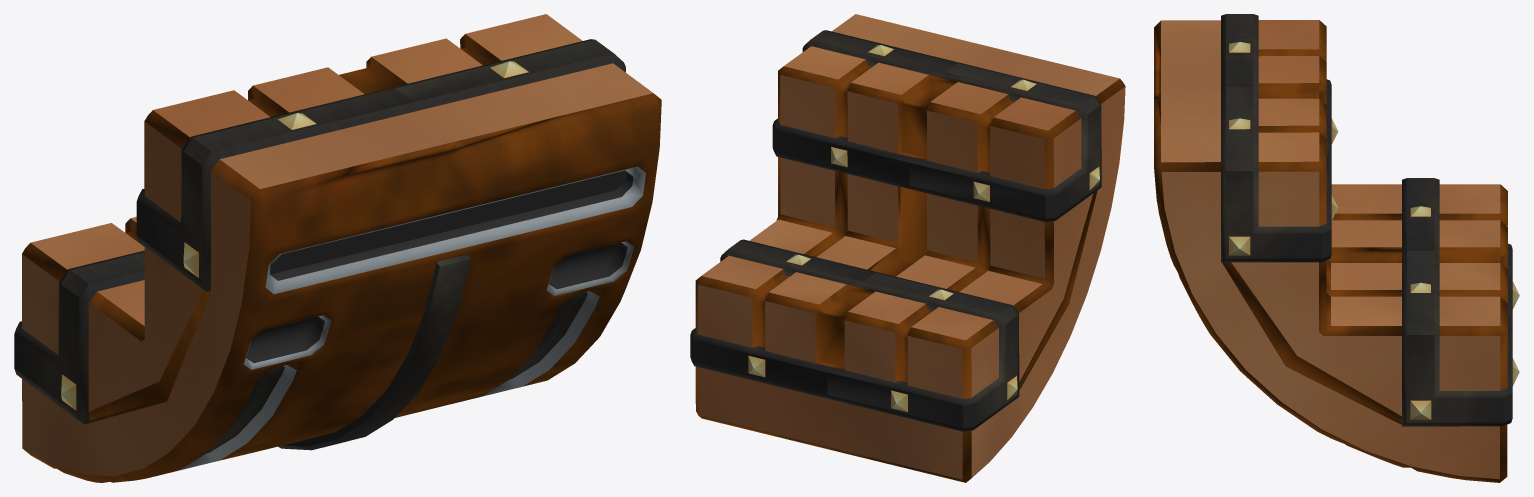
File: OS_Angle_Hover_Base.obj
3 views of the same model, side by side, from view 1: azimuth 30°, elevation 25°; view 2: azimuth 150°, elevation 25°; view 3: azimuth 270°, elevation 25° (orthographic). The views are drawn at different scales.
Parts seen in each view (by area): view 1: Cube.115_Cube.004; view 2: Cube.115_Cube.004; view 3: Cube.115_Cube.004.
Boxes of the visible parts, box(x1,y1,x2,y2) form: Cube.115_Cube.004: box(14, 14, 661, 482); Cube.115_Cube.004: box(690, 14, 1125, 482); Cube.115_Cube.004: box(1154, 14, 1519, 482).
Bounding box in the file's own units: 2.07 × 2.02 × 2.02.
